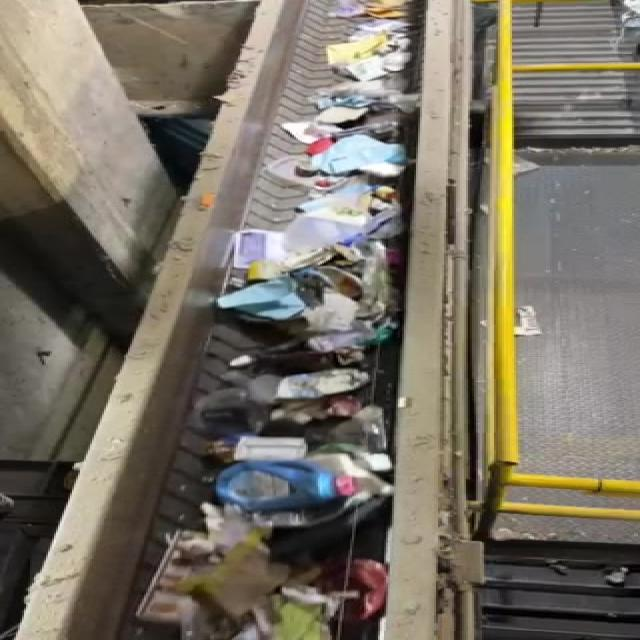hdpe: (203, 461, 390, 515)
paper: (150, 524, 284, 621), (244, 369, 390, 406)
pp: (328, 550, 394, 630)
